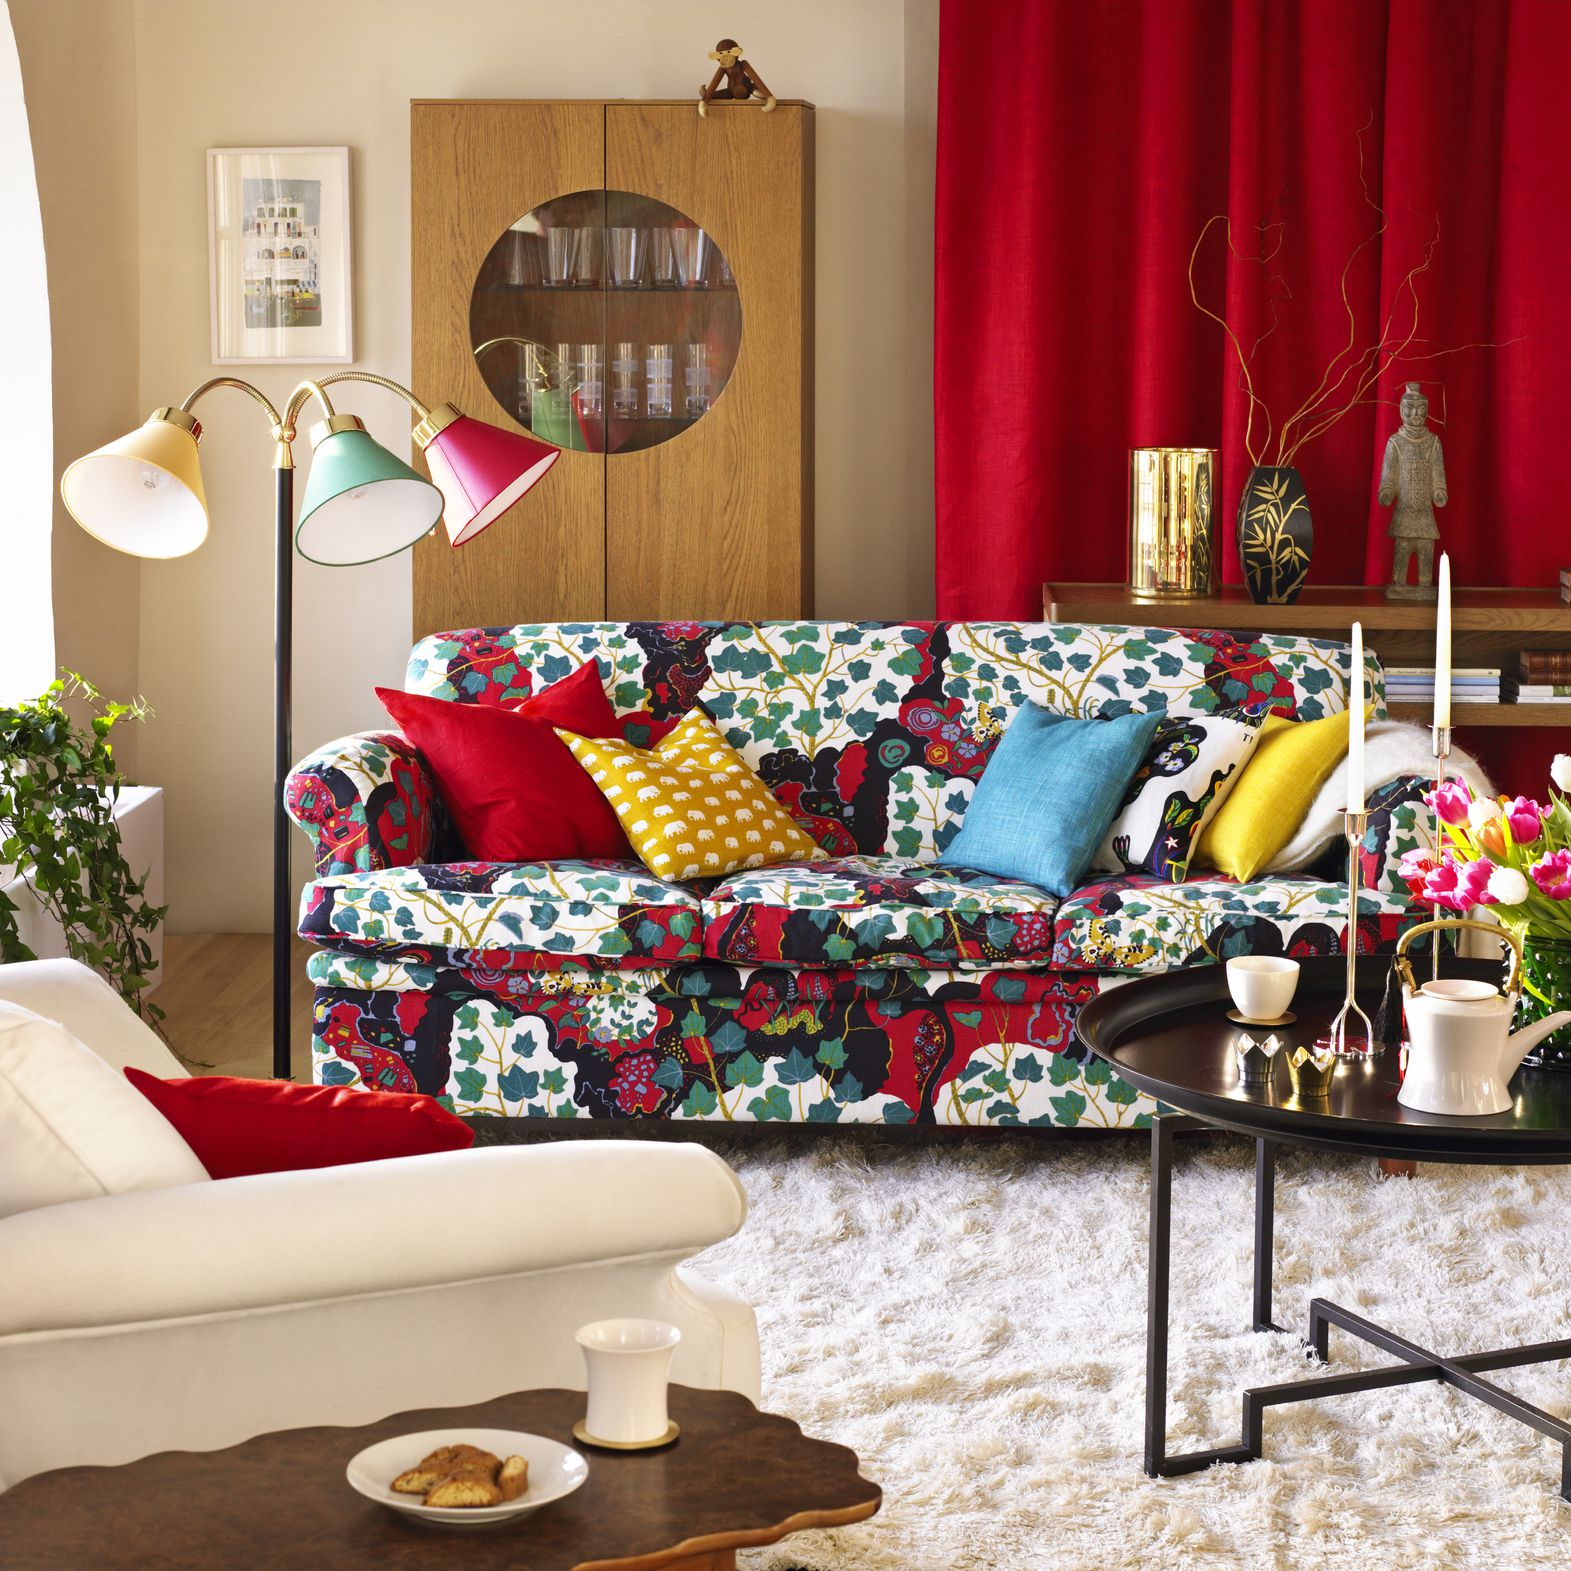biru: (957, 706, 1138, 883)
hijau: (293, 437, 424, 498)
kuning: (1224, 711, 1328, 885), (86, 416, 224, 481)
merah: (397, 693, 619, 855), (424, 419, 547, 519)
putih: (1403, 977, 1508, 1114), (577, 1316, 680, 1442), (1223, 957, 1303, 1020)
